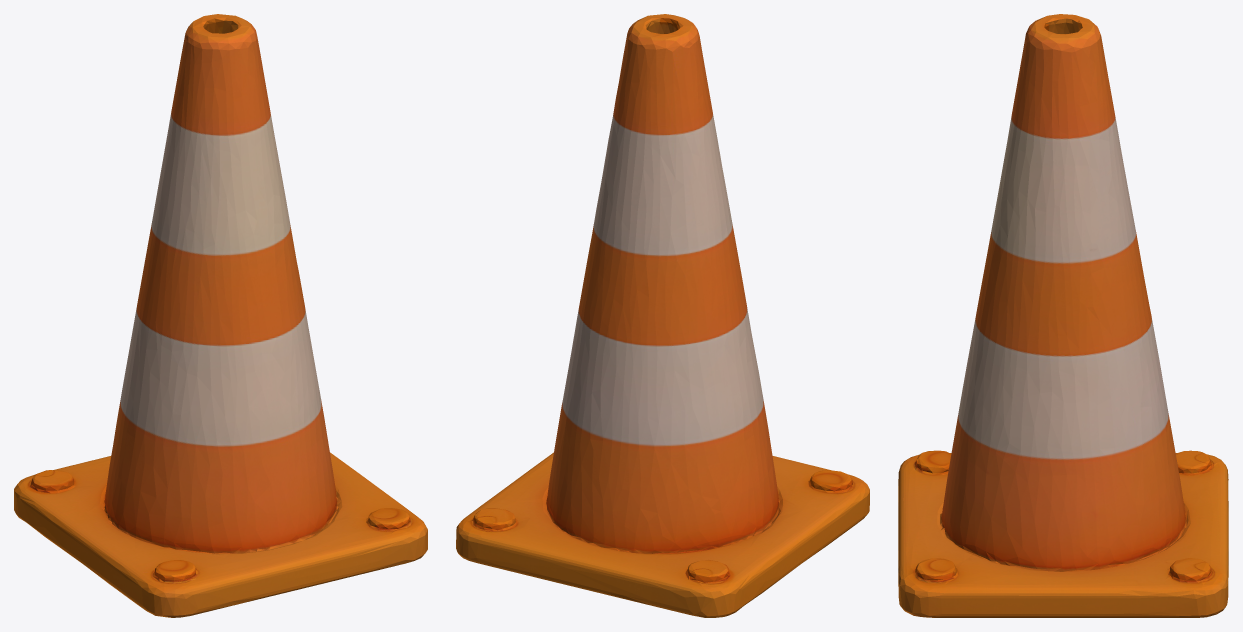
3 renders of one model, left to right at view 1: azimuth 30°, elevation 25°; view 2: azimuth 150°, elevation 25°; view 3: azimuth 270°, elevation 25°, orthographic. The views are drawn at different scales.
Parts seen in each view (by area): view 1: 0_1234_30_5.0_256_8000.obj; view 2: 0_1234_30_5.0_256_8000.obj; view 3: 0_1234_30_5.0_256_8000.obj.
Part boxes in pixels (box(x1,y1,x2,y2)): 0_1234_30_5.0_256_8000.obj: box(14, 14, 427, 617); 0_1234_30_5.0_256_8000.obj: box(456, 14, 869, 617); 0_1234_30_5.0_256_8000.obj: box(898, 14, 1228, 617).
Size of the model in its own units: 1.14 by 1.99 by 1.14.
Materials: 1 (1 with a texture image).
